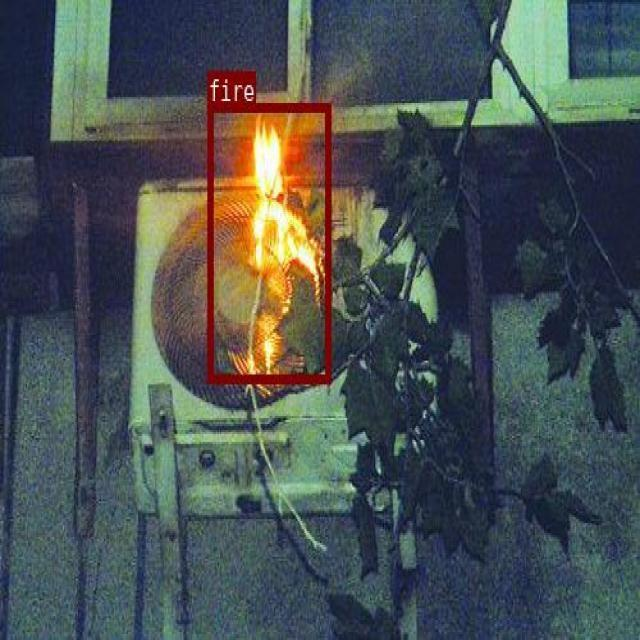fire: (207, 102, 329, 380)
